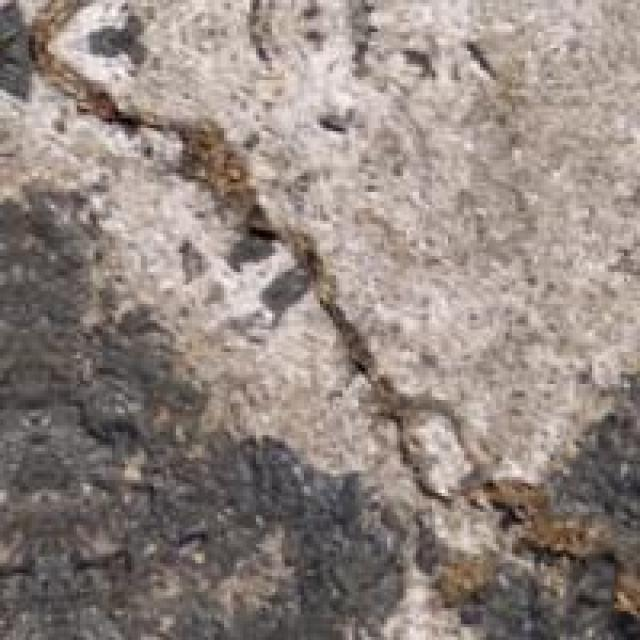crack: (35, 35, 525, 461)
